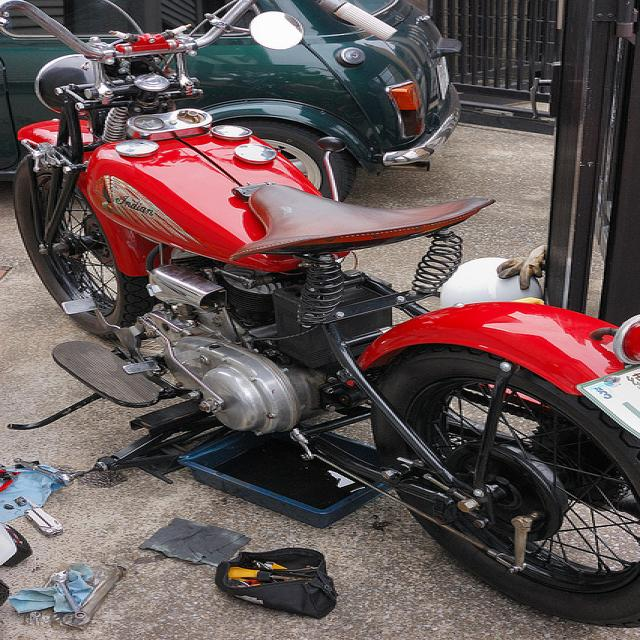motor: (2, 0, 637, 629)
